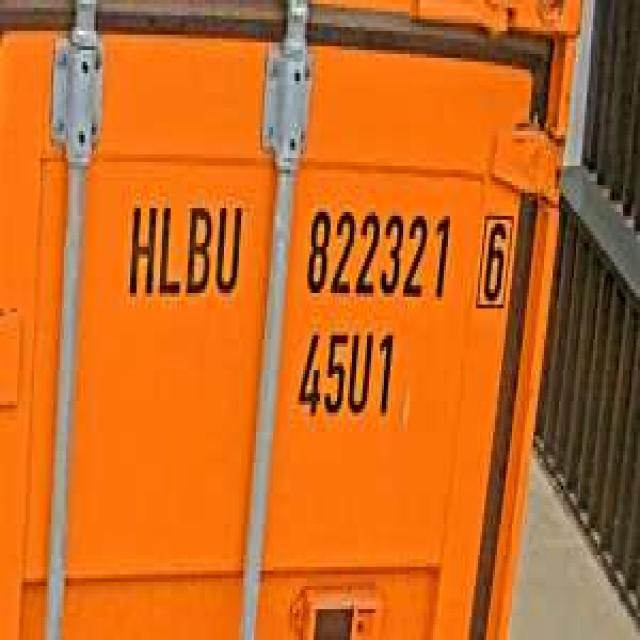dv: (474, 204, 516, 316)
owner: (120, 196, 246, 304)
serial: (301, 196, 452, 308)
size: (294, 320, 397, 424)
